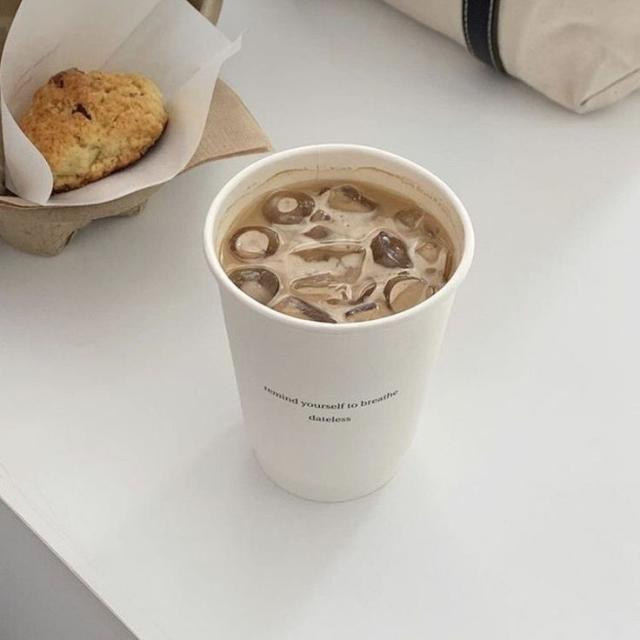paper cup: (204, 144, 476, 503)
